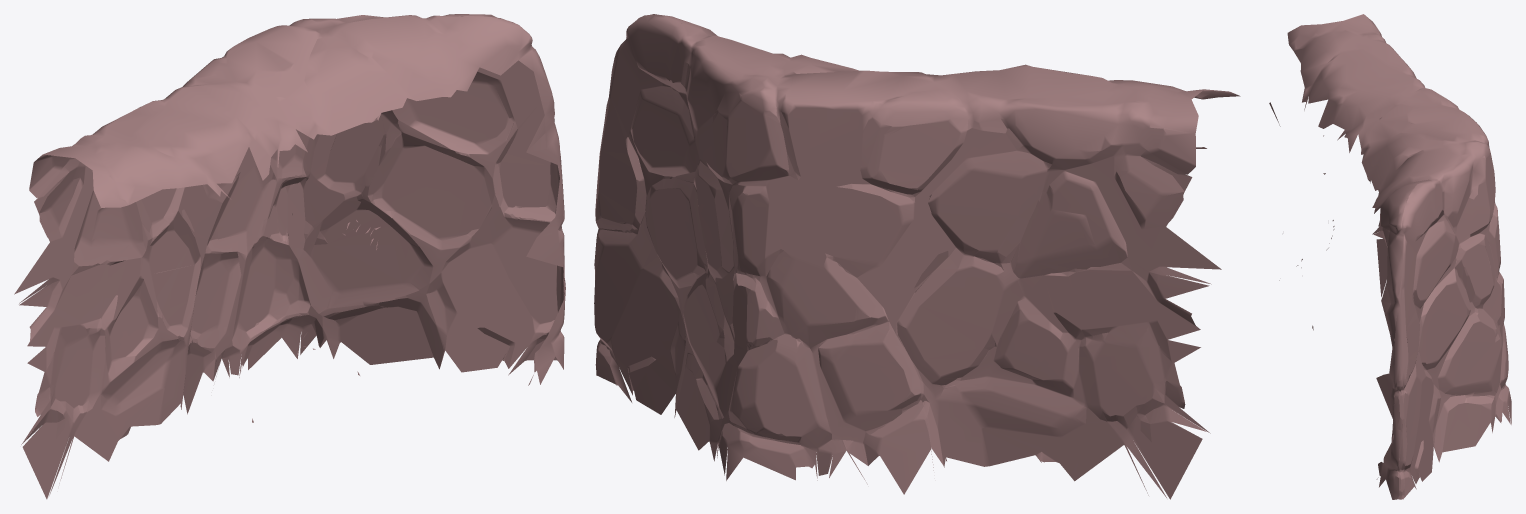
File: canyon.fbx_PolyShape__3__014LODs.fbx
3 views of the same model, side by side, from view 1: azimuth 30°, elevation 25°; view 2: azimuth 150°, elevation 25°; view 3: azimuth 270°, elevation 25° (orthographic). The views are drawn at different scales.
Visible parts, largest first — view 1: PolyShape (3).014_LOD0; view 2: PolyShape (3).014_LOD0; view 3: PolyShape (3).014_LOD0.
Boxes of the visible parts, <box> form: PolyShape (3).014_LOD0: <box>14,14,565,499</box>; PolyShape (3).014_LOD0: <box>594,14,1240,499</box>; PolyShape (3).014_LOD0: <box>1269,14,1511,499</box>.
Size of what is drawn, in the model's own units: 6129 by 3808 by 2905.
